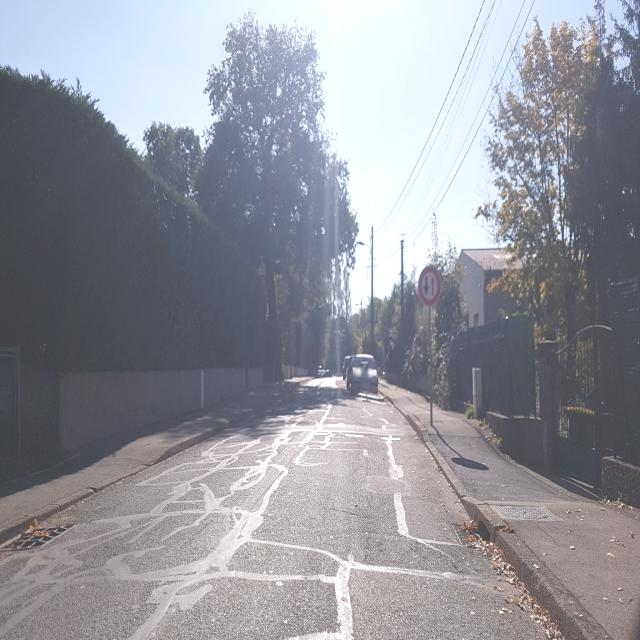car: (346, 352, 379, 397), (341, 354, 354, 381)
